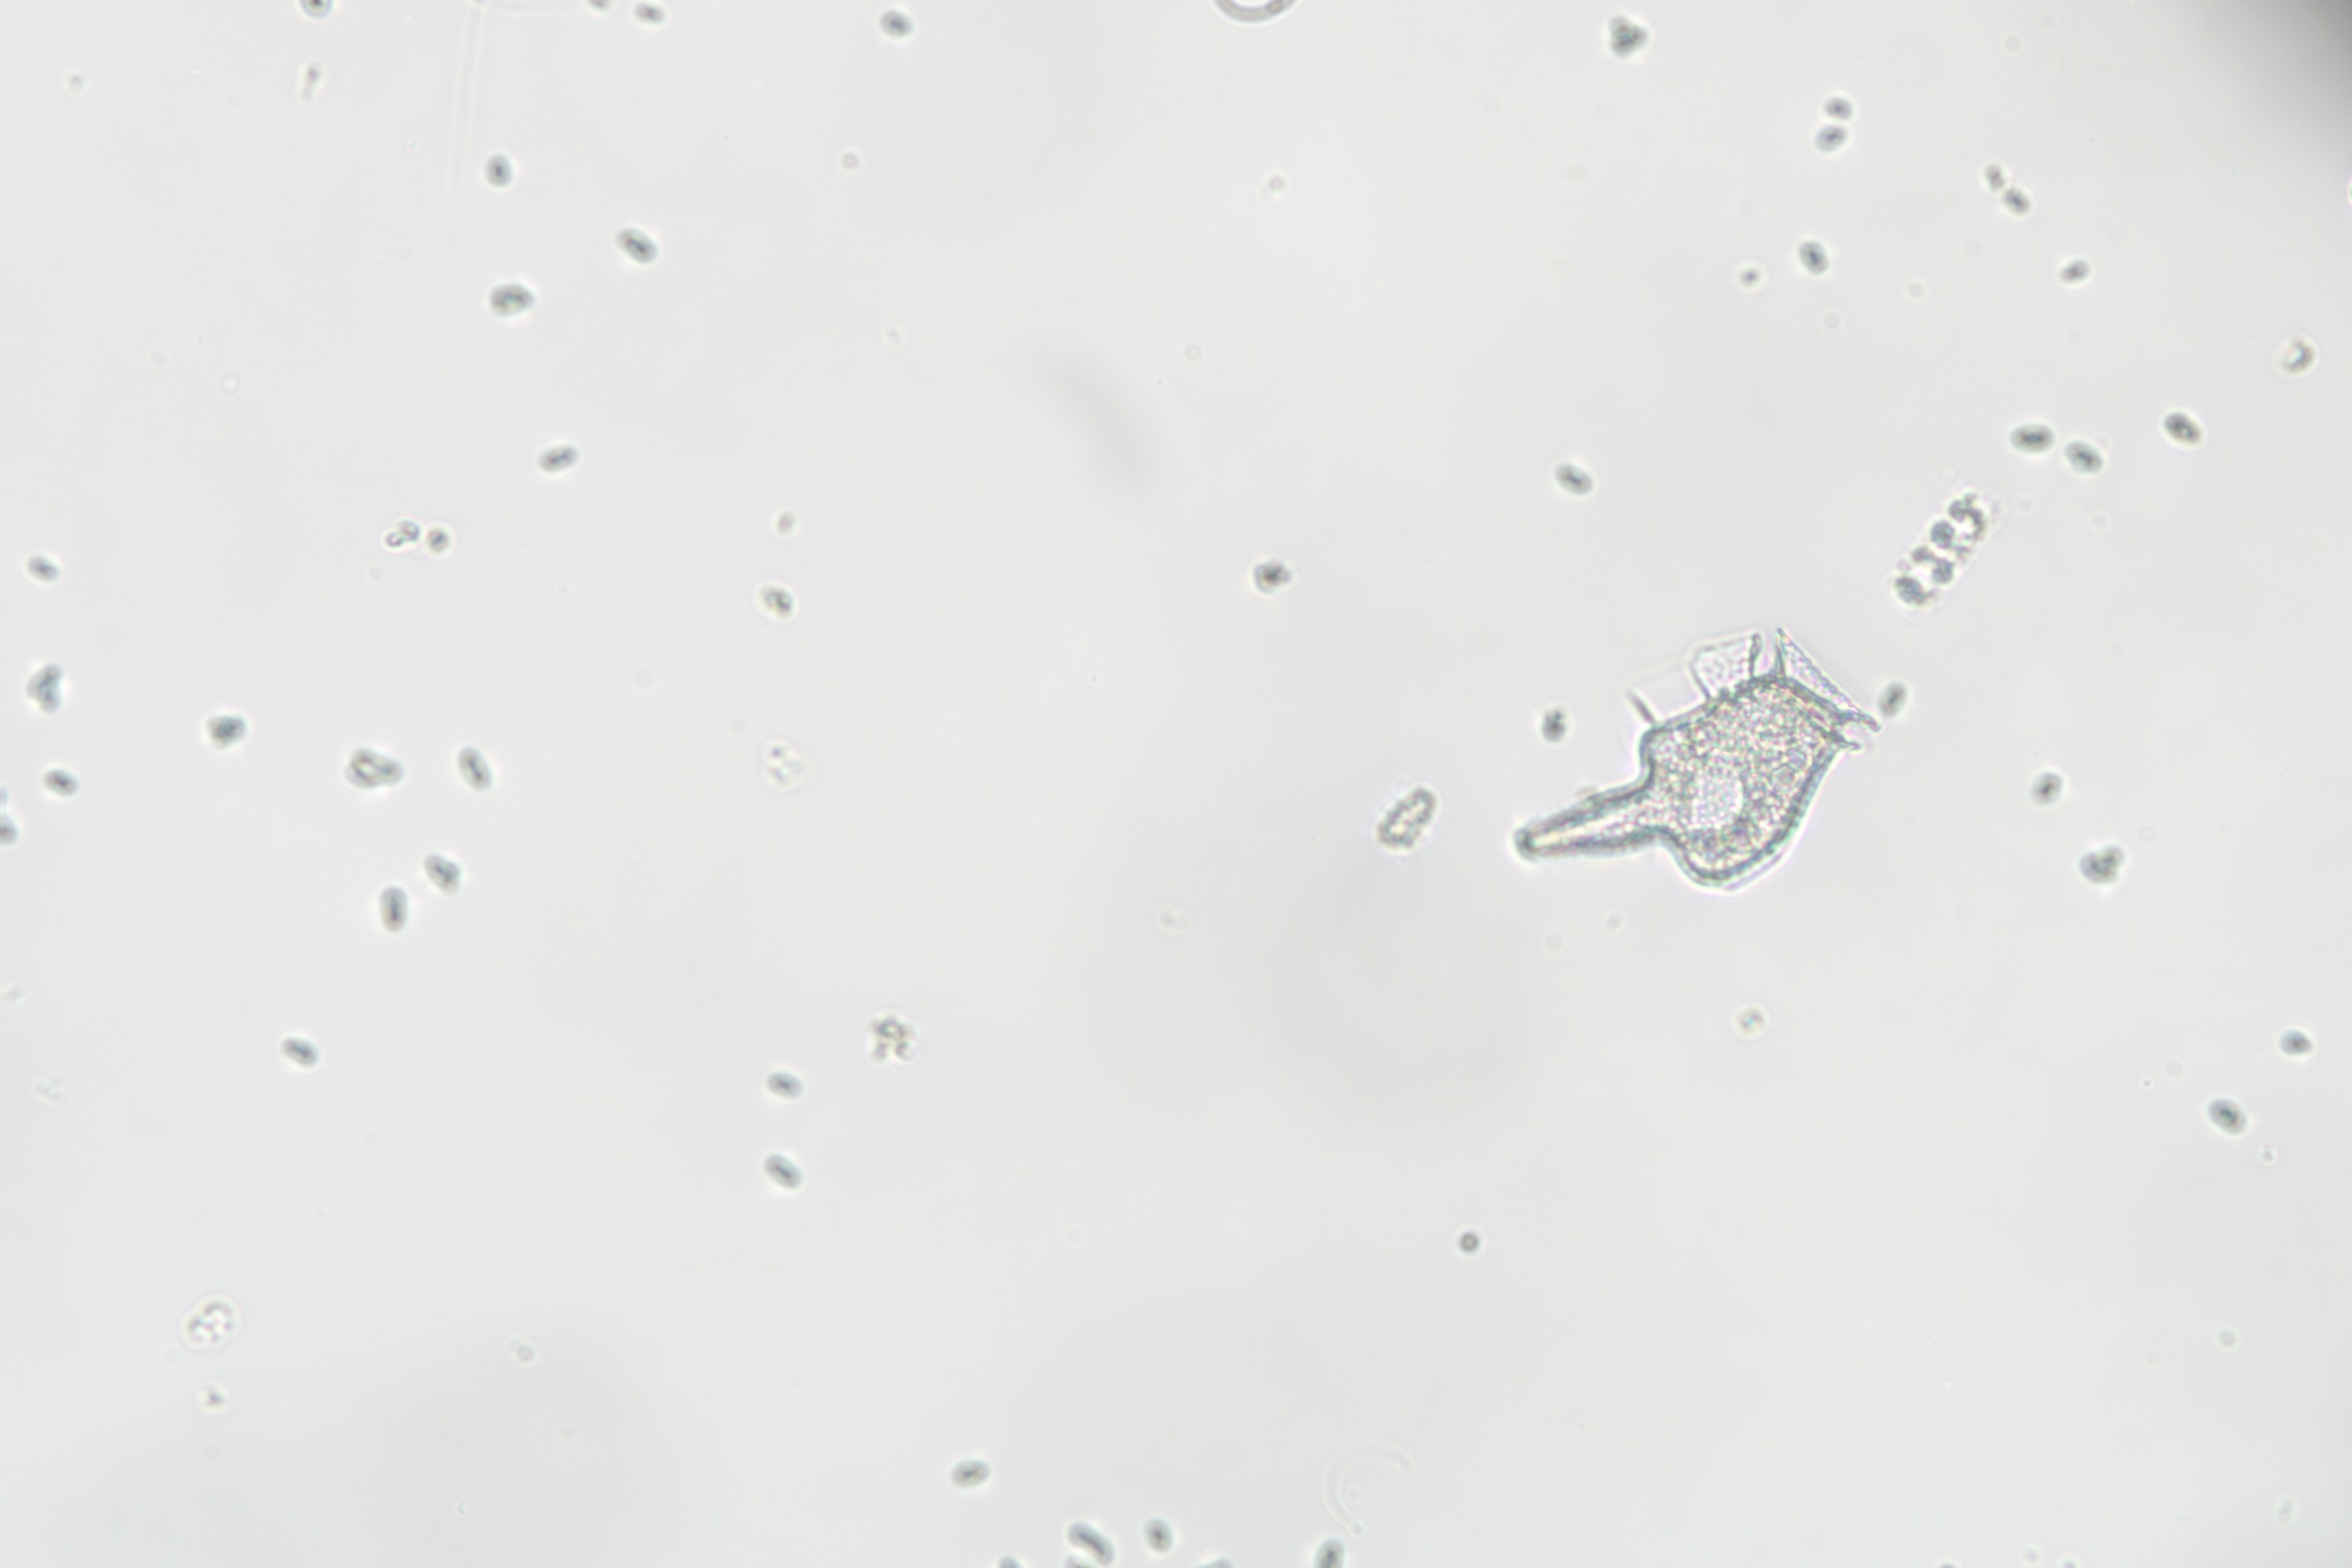dinophysis caudata: (1487, 605, 1885, 908)
